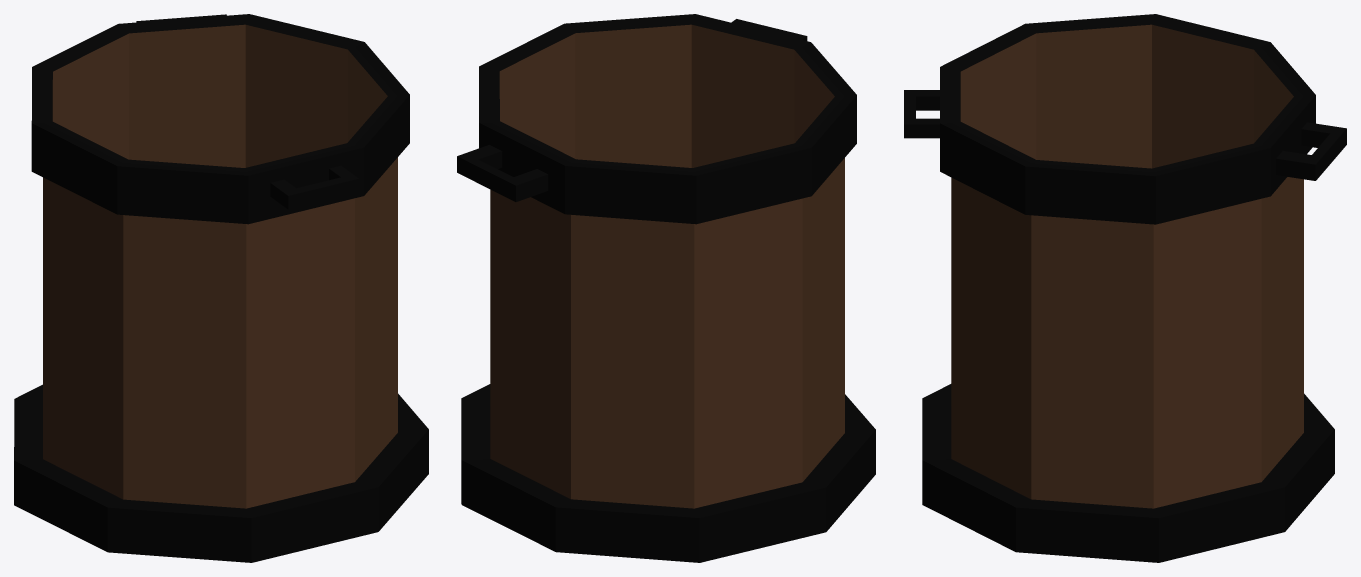
File: Bin A3.fbx
The picture shows the model from 3 angles, left to right: view 1: azimuth 30°, elevation 25°; view 2: azimuth 150°, elevation 25°; view 3: azimuth 270°, elevation 25°; orthographic projection.
Visible parts, largest first — view 1: Cylinder; view 2: Cylinder; view 3: Cylinder.
Part boxes in pixels (<box>): Cylinder: <box>14,14,428,562</box>; Cylinder: <box>457,14,875,562</box>; Cylinder: <box>904,14,1346,562</box>.
Bounding box in the file's own units: 176 × 175 × 185.
